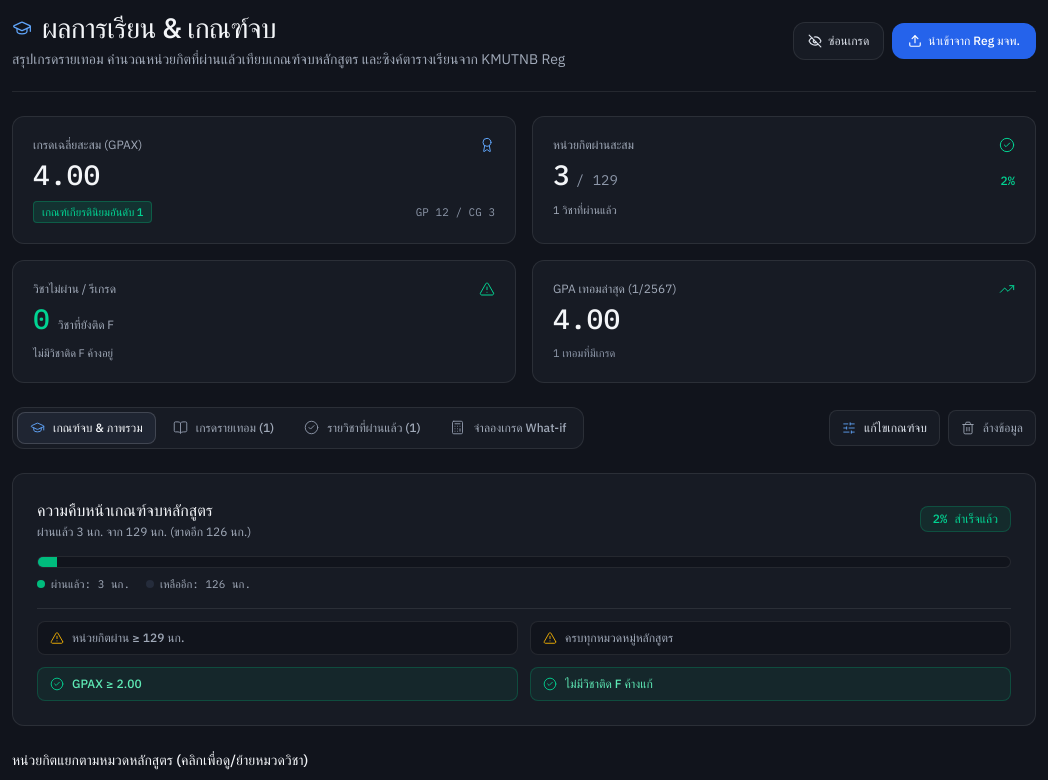
Academic & Graduation Page + RegImportModal › toggles Privacy Blur and persists setting
This screenshot has width=1048, height=780.
Click the button "ซ่อนเกรด" at (839, 42), box top-left (793, 22), bottom-right (884, 60)
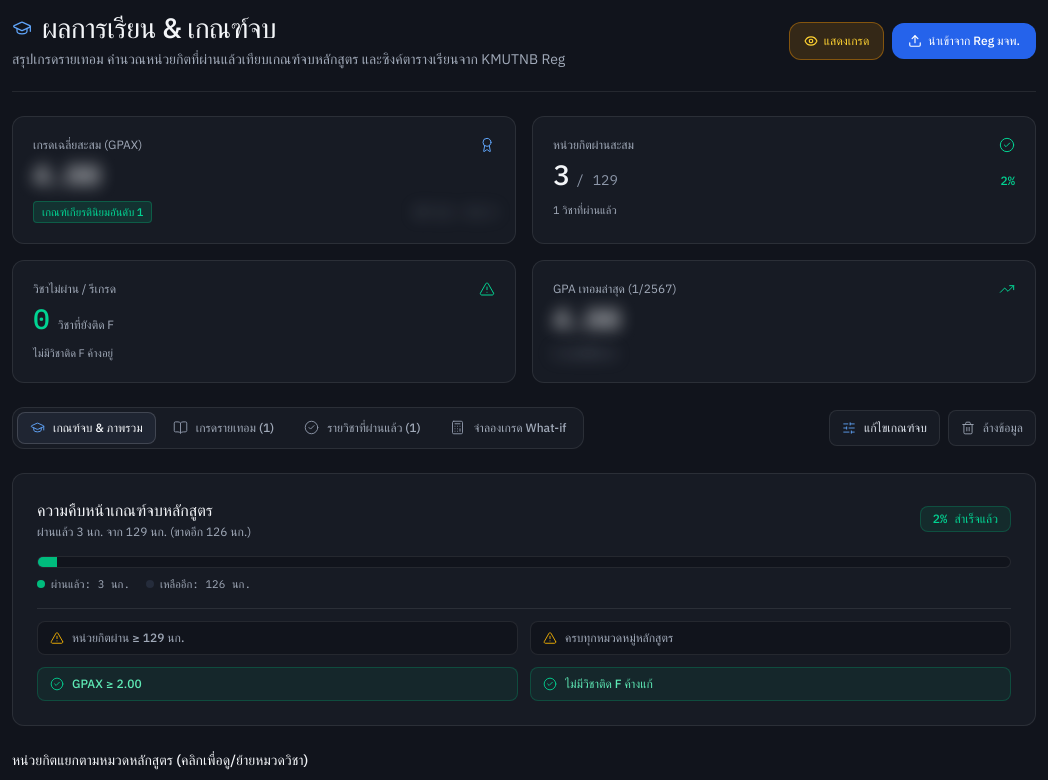
Result: the button "แสดงเกรด" is shown at top-left (789, 22), bottom-right (884, 60)
